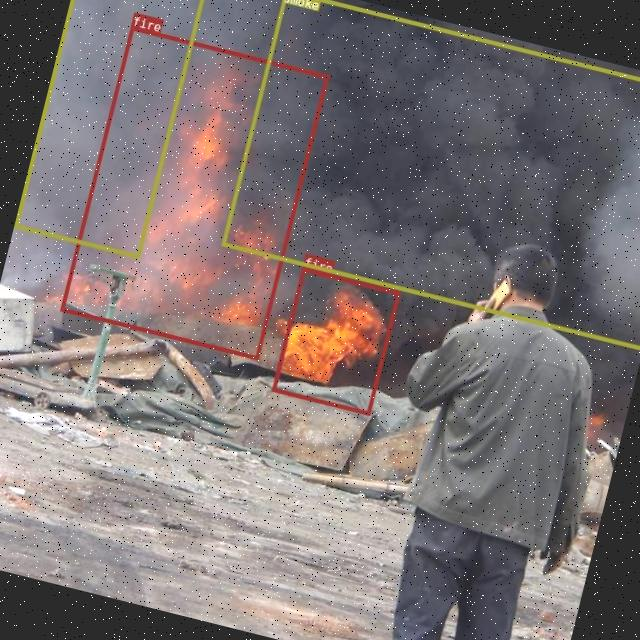fire: (59, 24, 328, 358), (271, 266, 399, 414)
smoke: (221, 0, 640, 348), (13, 0, 211, 257)
